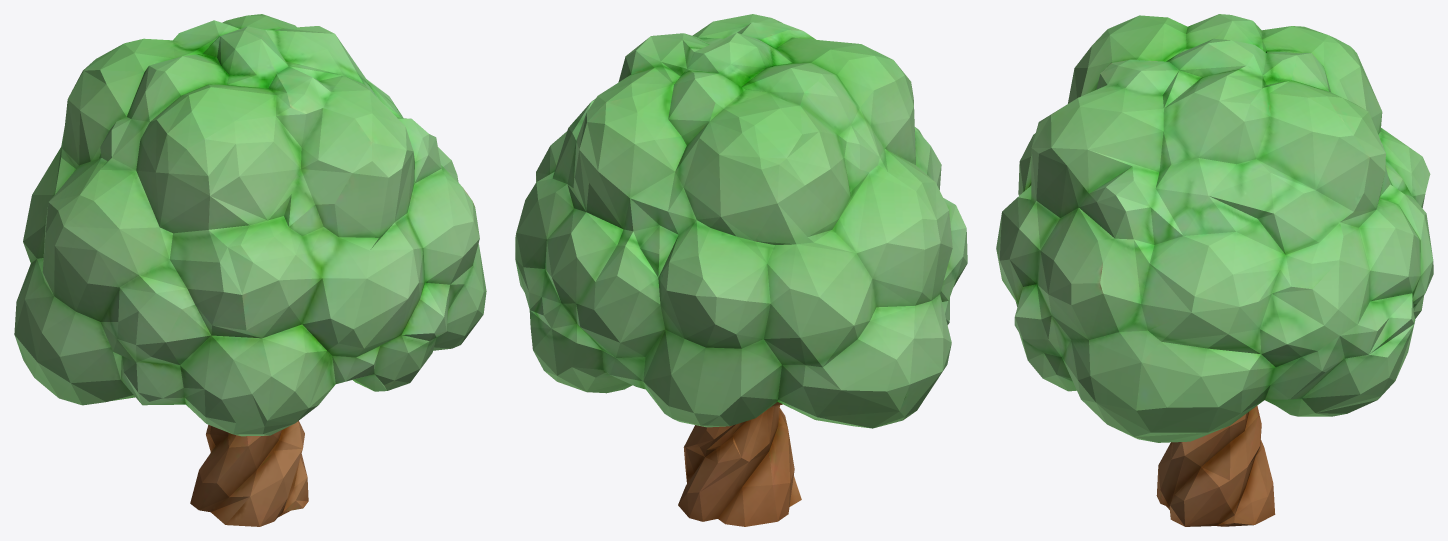
The model's file is tree_round.glb.
3 views of the same model, side by side, from view 1: azimuth 30°, elevation 25°; view 2: azimuth 150°, elevation 25°; view 3: azimuth 270°, elevation 25° (orthographic).
Parts seen in each view (by area): view 1: tmpxs1etgb2.ply; view 2: tmpxs1etgb2.ply; view 3: tmpxs1etgb2.ply.
Part boxes in pixels (x1,y1,x2,y2): tmpxs1etgb2.ply: (14, 14, 486, 526); tmpxs1etgb2.ply: (515, 14, 967, 526); tmpxs1etgb2.ply: (996, 14, 1433, 526).
Size of the model in its own units: 1.85 by 1.99 by 1.69.
Materials: 1 (1 with a texture image).
